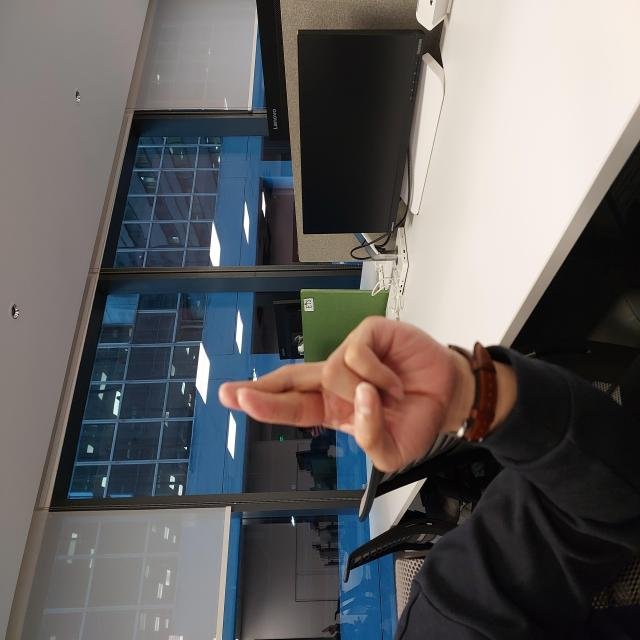R: (170, 219, 324, 454)
